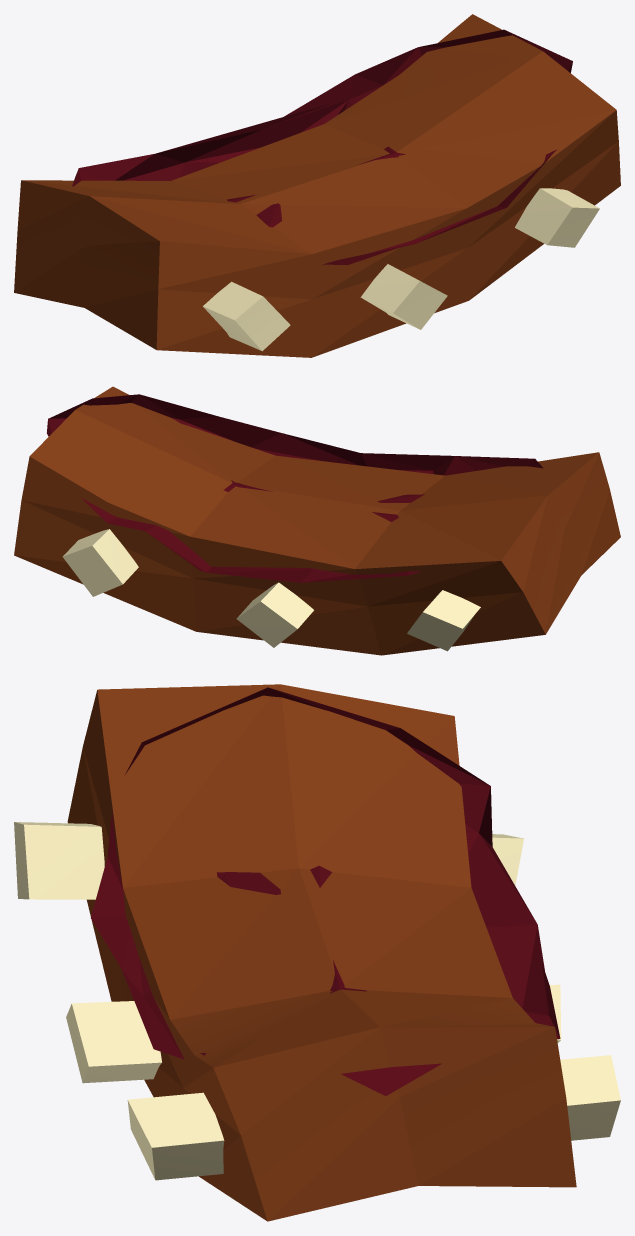
File: ribs.obj
The picture shows the model from 3 angles, top to bottom: view 1: azimuth 30°, elevation 25°; view 2: azimuth 150°, elevation 25°; view 3: azimuth 270°, elevation 25°; orthographic projection. The views are drawn at different scales.
Visible parts, largest first — view 1: Cube_Mesh; view 2: Cube_Mesh; view 3: Cube_Mesh.
Part boxes in pixels (bbox=[...]): Cube_Mesh: bbox=[14, 14, 620, 357]; Cube_Mesh: bbox=[14, 386, 620, 655]; Cube_Mesh: bbox=[14, 684, 620, 1221].
Bounding box in the file's own units: 0.3812 × 0.1128 × 0.2461.
